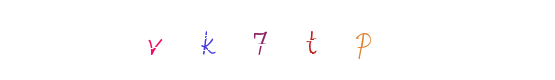7: (227, 0, 307, 80)
K: (203, 0, 283, 80)
P: (305, 0, 385, 80)
T: (237, 0, 317, 80)
V: (167, 0, 247, 80)
